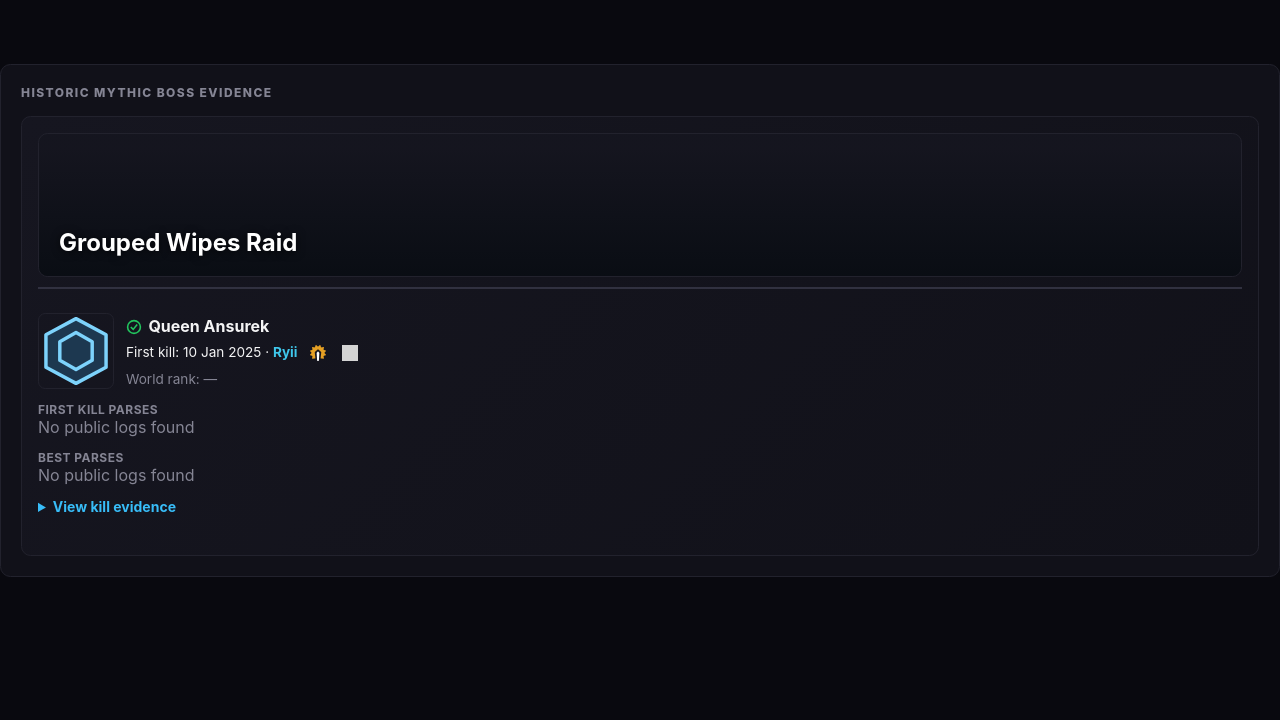
Test: groups multiple wipes after each corresponding kill report
Click the heading "View kill evidence". click: click(114, 506)
box: top-left (53, 498), bottom-right (176, 515)
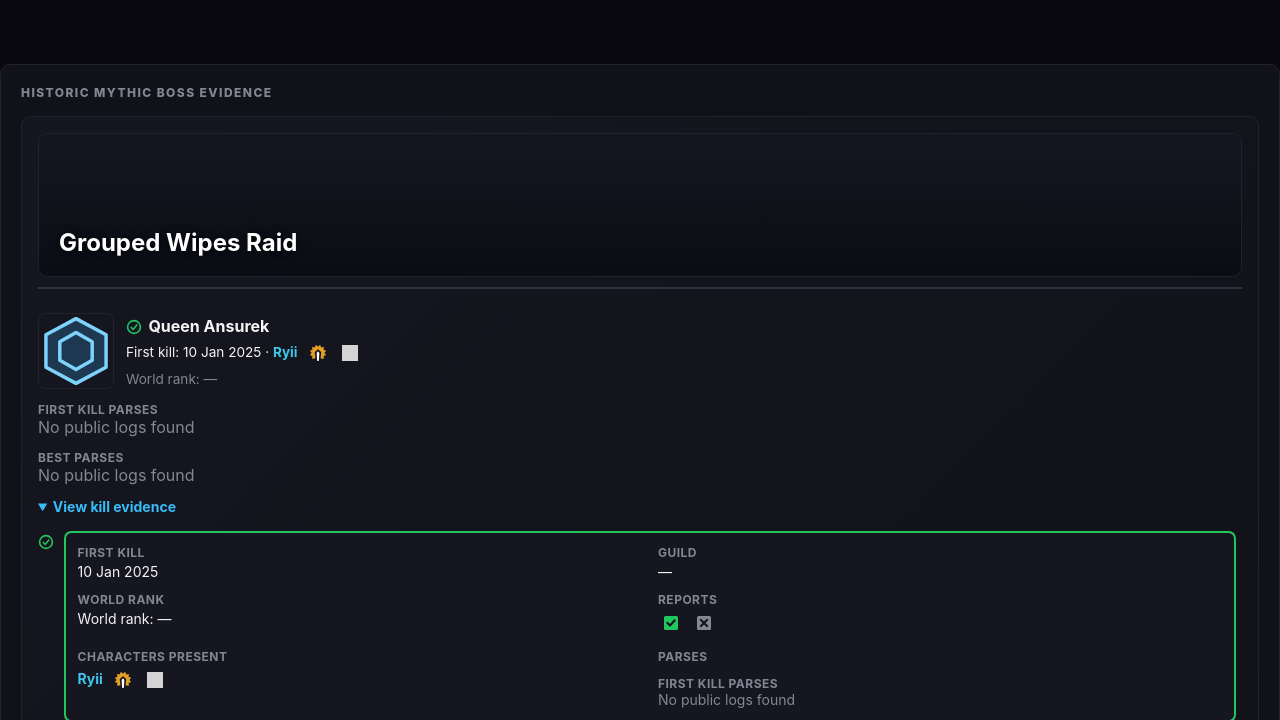
Now the number of links named "View Warcraft Logs report (opens in a new tab)" is 2
Now the number of links named "View Warcraft Logs wipe report (opens in a new tab)" is 2
Now the number of pictures named "Verified Mythic kill" is 2
